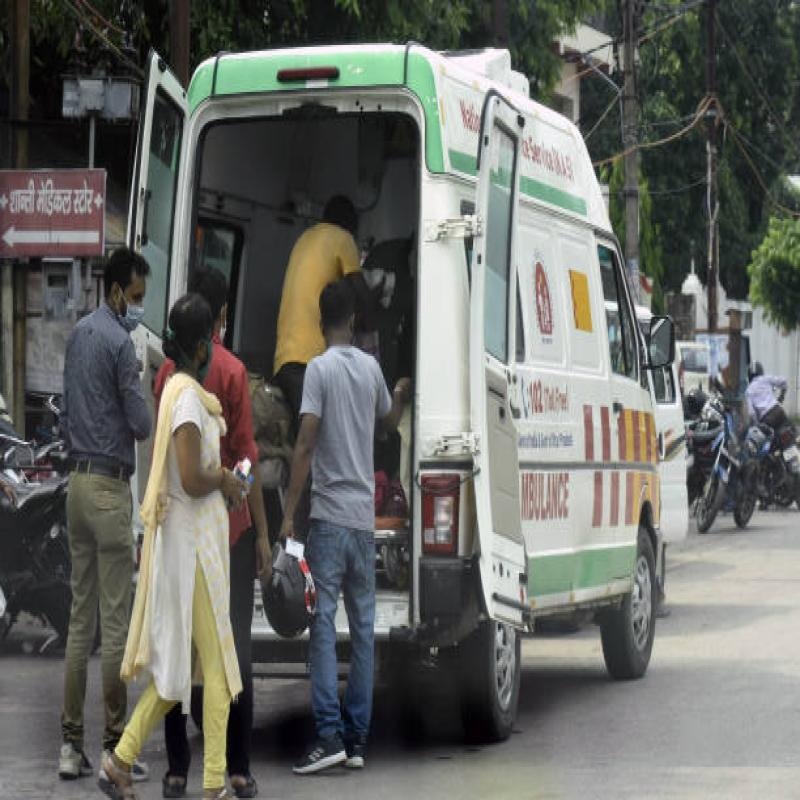ambulance: (89, 37, 676, 739)
